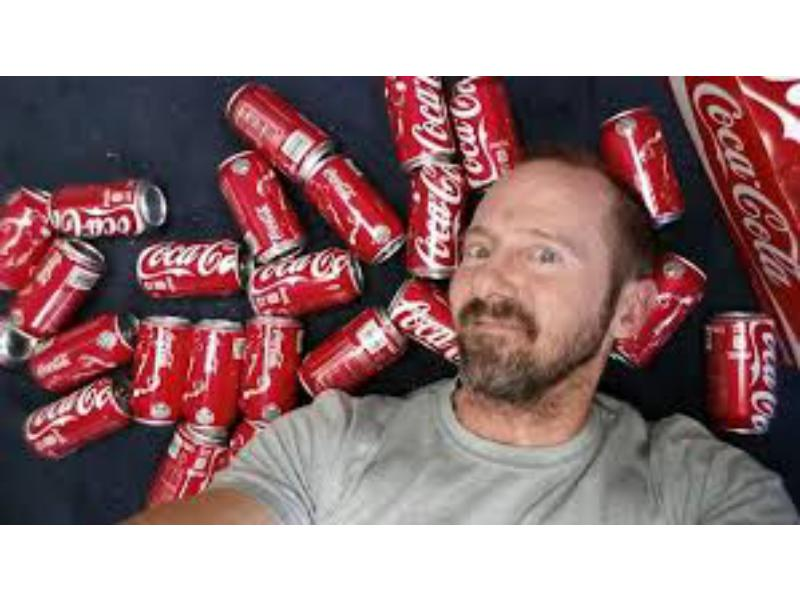can: (300, 144, 407, 267), (222, 81, 343, 189), (610, 254, 717, 371), (213, 146, 310, 265), (597, 101, 686, 228), (298, 306, 408, 402), (4, 243, 106, 345), (27, 311, 145, 397), (20, 376, 129, 465), (250, 243, 361, 324), (447, 76, 521, 188), (709, 314, 774, 438), (181, 315, 245, 440), (401, 164, 467, 281), (382, 76, 459, 171), (127, 312, 189, 428), (52, 176, 164, 237), (385, 275, 458, 362), (144, 238, 243, 301), (244, 317, 305, 416), (2, 183, 54, 294)
